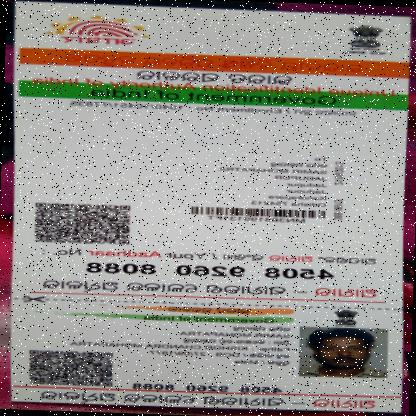aadhaar_card: (5, 1, 414, 415)
